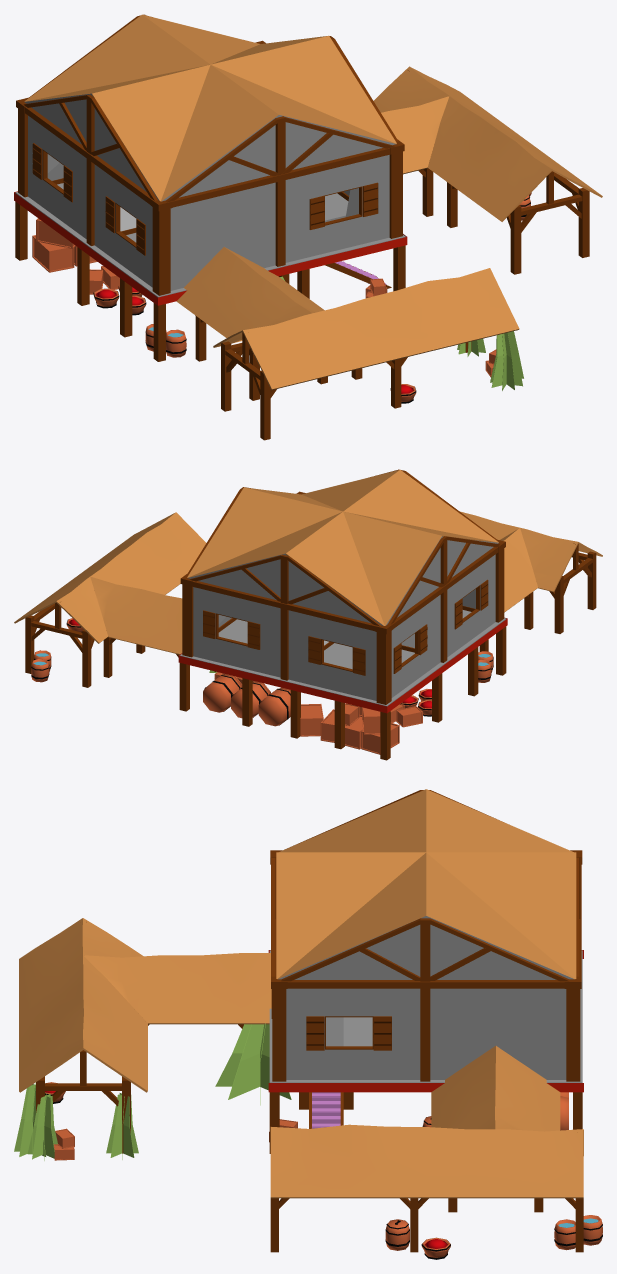
The model's file is townhall.fbx.
The picture shows the model from 3 angles, top to bottom: view 1: azimuth 30°, elevation 25°; view 2: azimuth 150°, elevation 25°; view 3: azimuth 270°, elevation 25°; orthographic projection. The views are drawn at different scales.
Parts seen in each view (by area): view 1: Plane.004, Plane.002, Cube.004, Cube.017, Plane.001, Plane.003, Plane.005, Circle.009, Circle.028; view 2: Plane.004, Plane.002, Cube.004, Cube.017, Circle.009, Plane.001, Plane.003, Circle.008; view 3: Plane.004, Plane.002, Cube.004, Plane.005, Circle.009, Plane.001, Plane.003, Cube.007, Cube.017.
Part boxes in pixels (x1,y1,x2,y2): Plane.004: (24,14,602,390); Plane.002: (15,93,405,297); Cube.004: (15,14,589,440); Cube.017: (32,218,496,377); Plane.001: (14,191,407,305); Plane.003: (32,143,378,255); Plane.005: (280,276,523,390); Circle.009: (145,195,530,357); Circle.028: (93,193,531,401); Plane.004: (14,469,602,654); Plane.002: (179,536,506,706); Cube.004: (25,469,596,760); Cube.017: (214,672,422,754); Circle.009: (31,650,493,726); Plane.001: (178,617,507,713); Plane.003: (203,579,488,675); Circle.008: (31,620,493,725); Plane.004: (19,789,583,1198); Plane.002: (269,916,582,1082); Cube.004: (36,790,583,1252); Plane.005: (14,1023,291,1160); Circle.009: (385,1092,602,1250); Plane.001: (268,950,583,1092); Plane.003: (306,1016,391,1050); Cube.007: (312,1092,340,1128); Cube.017: (53,1119,297,1160).
Size of the model in its own units: 704 by 328 by 730.
